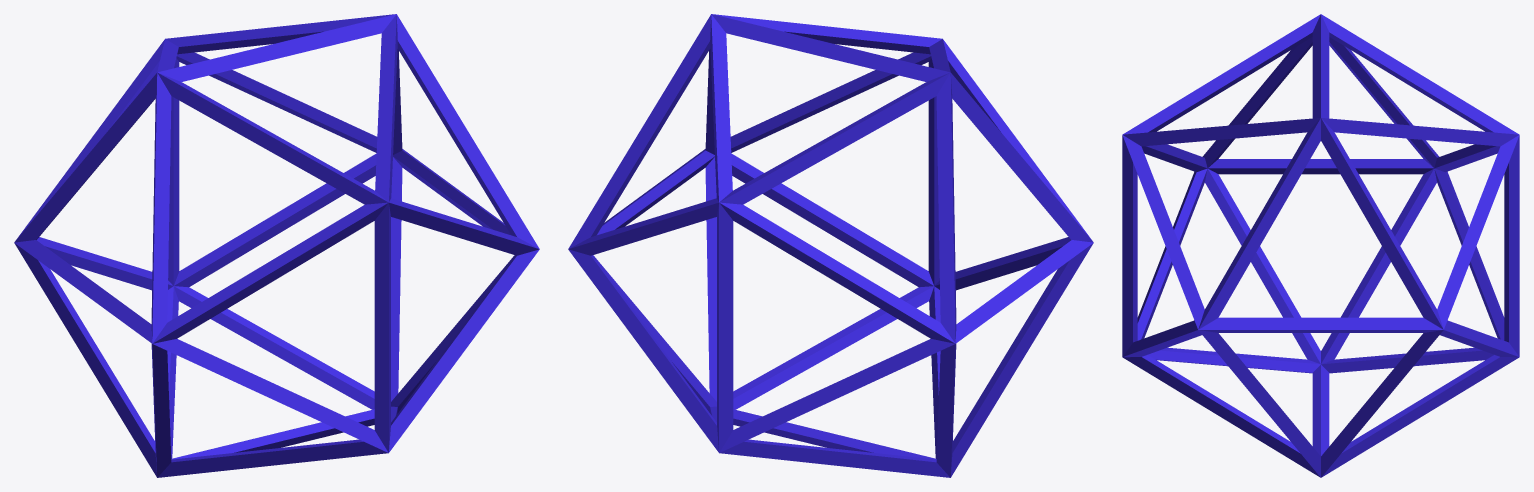
Rendered from Icosaedro_wireframe.glb.
3 views of the same model, side by side, from view 1: azimuth 30°, elevation 25°; view 2: azimuth 150°, elevation 25°; view 3: azimuth 270°, elevation 25° (orthographic). The views are drawn at different scales.
Parts seen in each view (by area): view 1: Solid.002; view 2: Solid.002; view 3: Solid.002.
Part boxes in pixels (<box>): Solid.002: <box>14,14,539,477</box>; Solid.002: <box>568,14,1093,477</box>; Solid.002: <box>1122,14,1519,477</box>.
Bounding box in the file's own units: 1.77 × 1.77 × 1.77.
